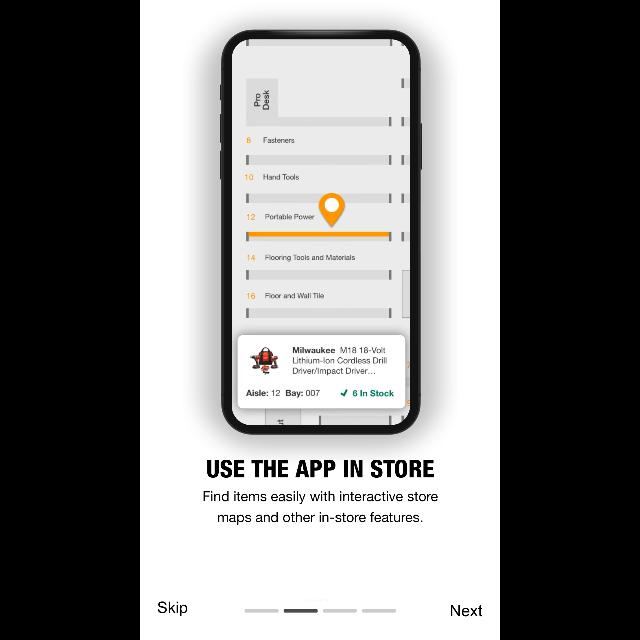image: (219, 31, 423, 436)
pageindicator: (245, 609, 397, 613)
text: (204, 491, 438, 525), (208, 460, 434, 478), (158, 602, 188, 616), (452, 604, 482, 616)
